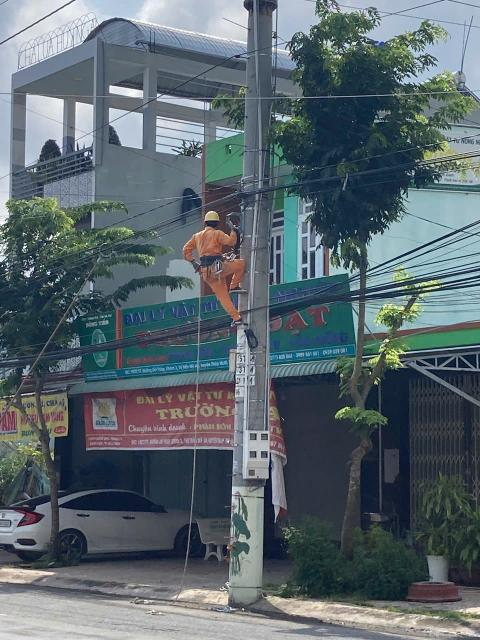gloves: (187, 256, 203, 272), (226, 221, 240, 230)
harness: (196, 252, 232, 272)
helmet: (199, 210, 223, 225)
shoes: (232, 285, 248, 296), (231, 317, 243, 329)
